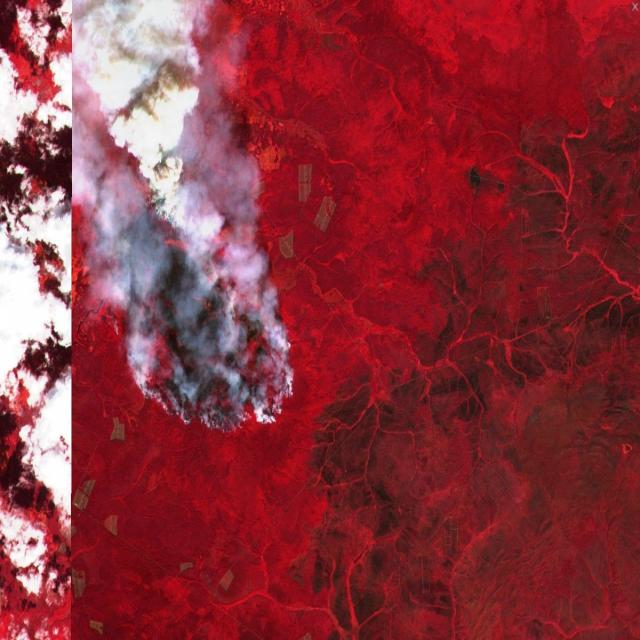fire: (91, 174, 302, 435)
